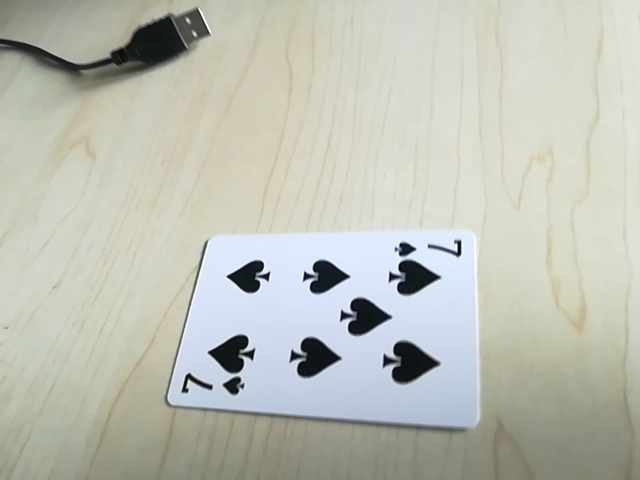ht 7: (389, 233, 465, 263), (174, 372, 249, 401)
